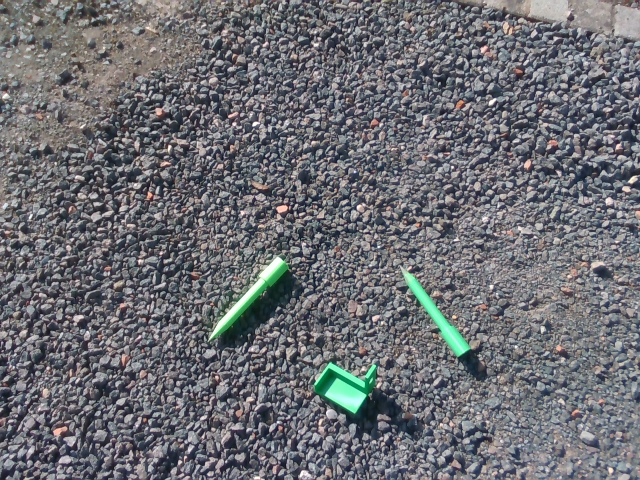Probe: (205, 251, 293, 348), (395, 258, 474, 363)
